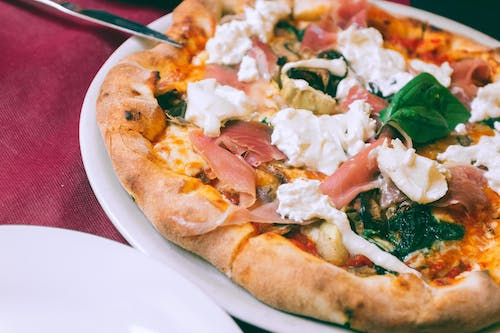knife: (18, 0, 184, 48)
